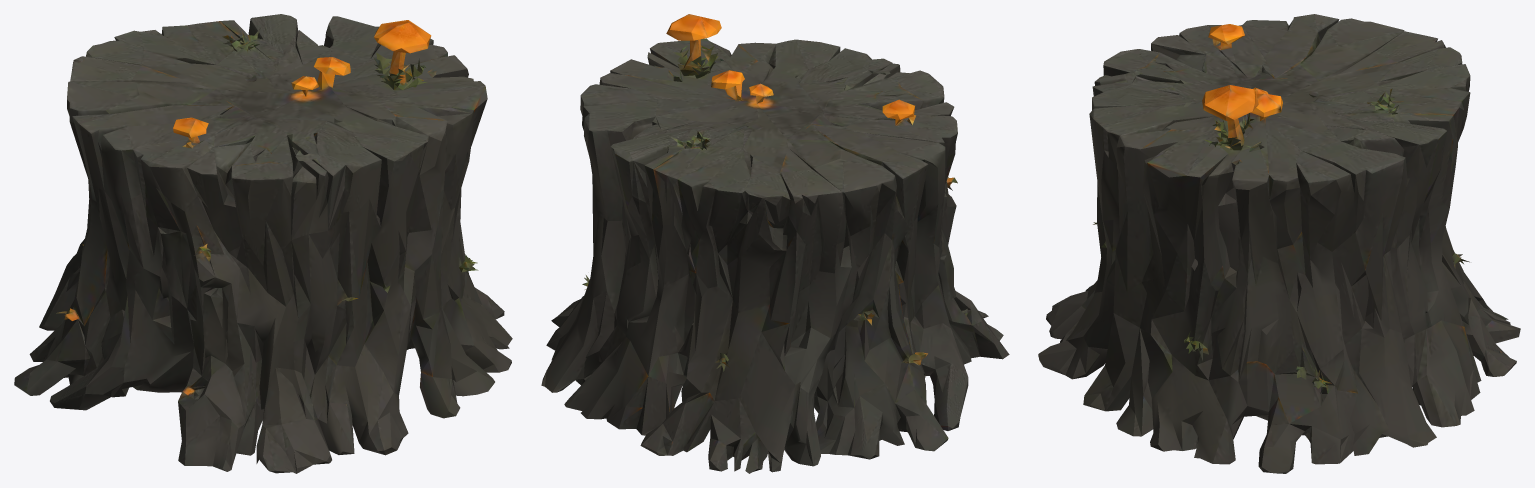
File: scene_stump.glb
3 views of the same model, side by side, from view 1: azimuth 30°, elevation 25°; view 2: azimuth 150°, elevation 25°; view 3: azimuth 270°, elevation 25° (orthographic). The views are drawn at different scales.
Size of the model in its own units: 1.9 by 1.35 by 1.8.
1 material, 1 textured.
